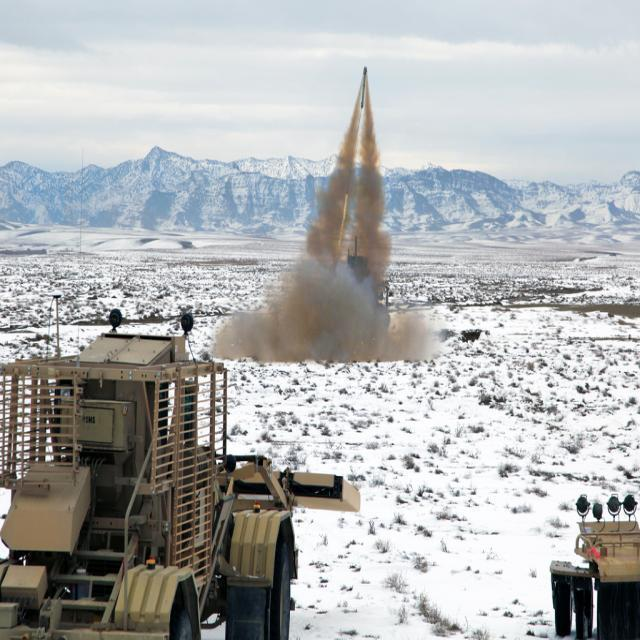missile: (354, 66, 373, 115)
